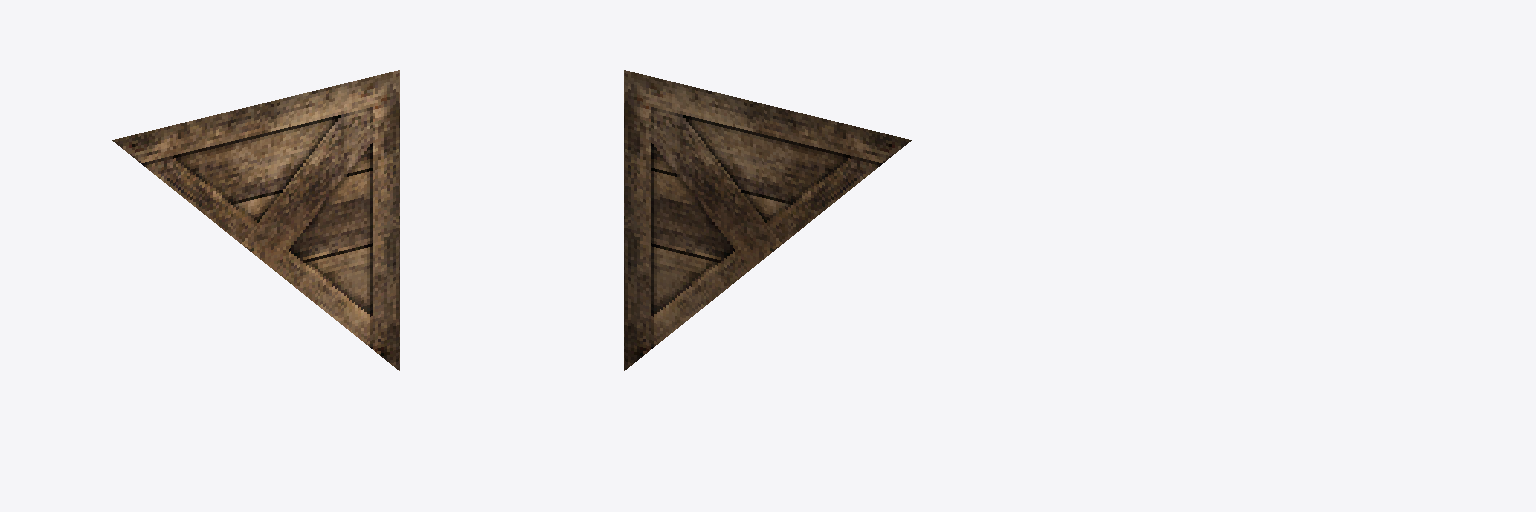
The picture shows the model from 3 angles: view 1: azimuth 30°, elevation 25°; view 2: azimuth 150°, elevation 25°; view 3: azimuth 270°, elevation 25°; orthographic projection.
Parts seen in each view (by area): view 1: Cube.001; view 2: Cube.001; view 3: none.
Part boxes in pixels (x1,y1,x2,y2): Cube.001: (112, 70, 399, 370); Cube.001: (624, 70, 911, 370).
Size of the model in its own units: 2 by 2 by 0.
Materials: 1 (1 with a texture image).